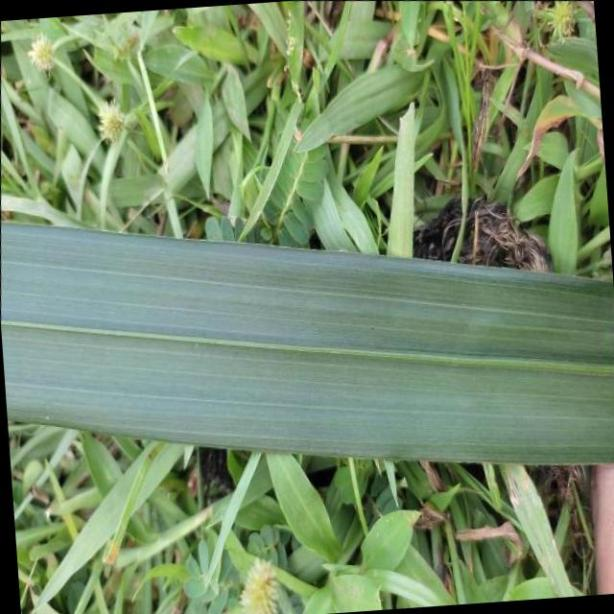Healthy: (0, 221, 614, 465)
